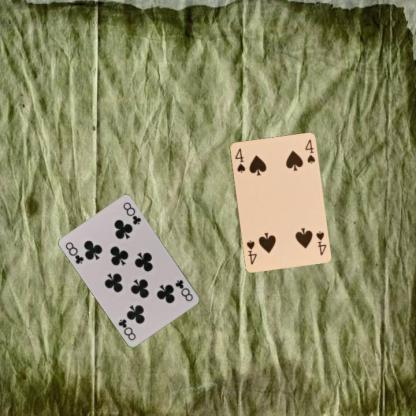4s: (313, 228, 328, 257), (232, 146, 246, 174)
8c: (63, 239, 85, 265), (173, 277, 194, 303)
